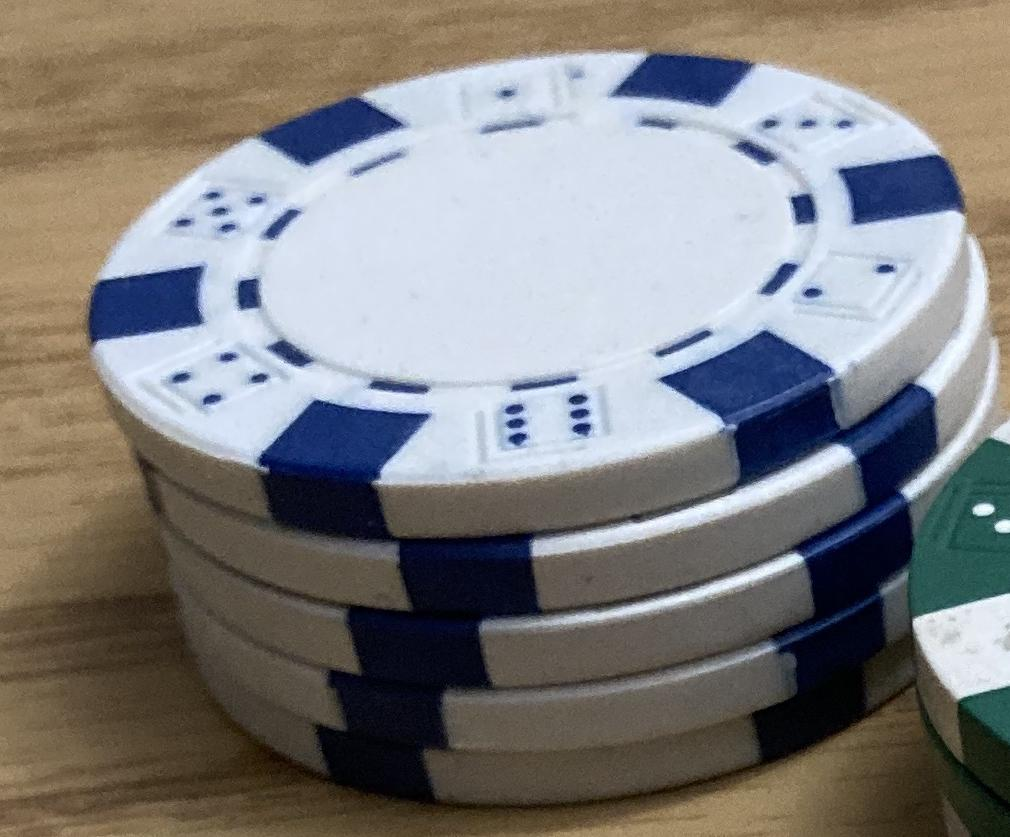Chip: (1, 1, 1010, 837)
